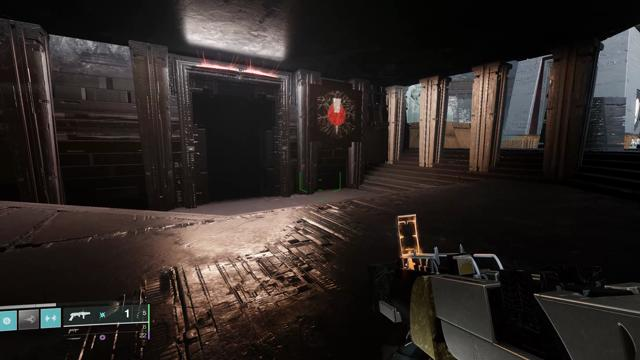kill: (317, 91, 356, 139)
traveler: (635, 97, 640, 124)
